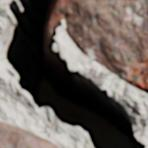brick: (64, 0, 147, 92), (0, 121, 59, 147)
crack: (0, 0, 146, 147)
